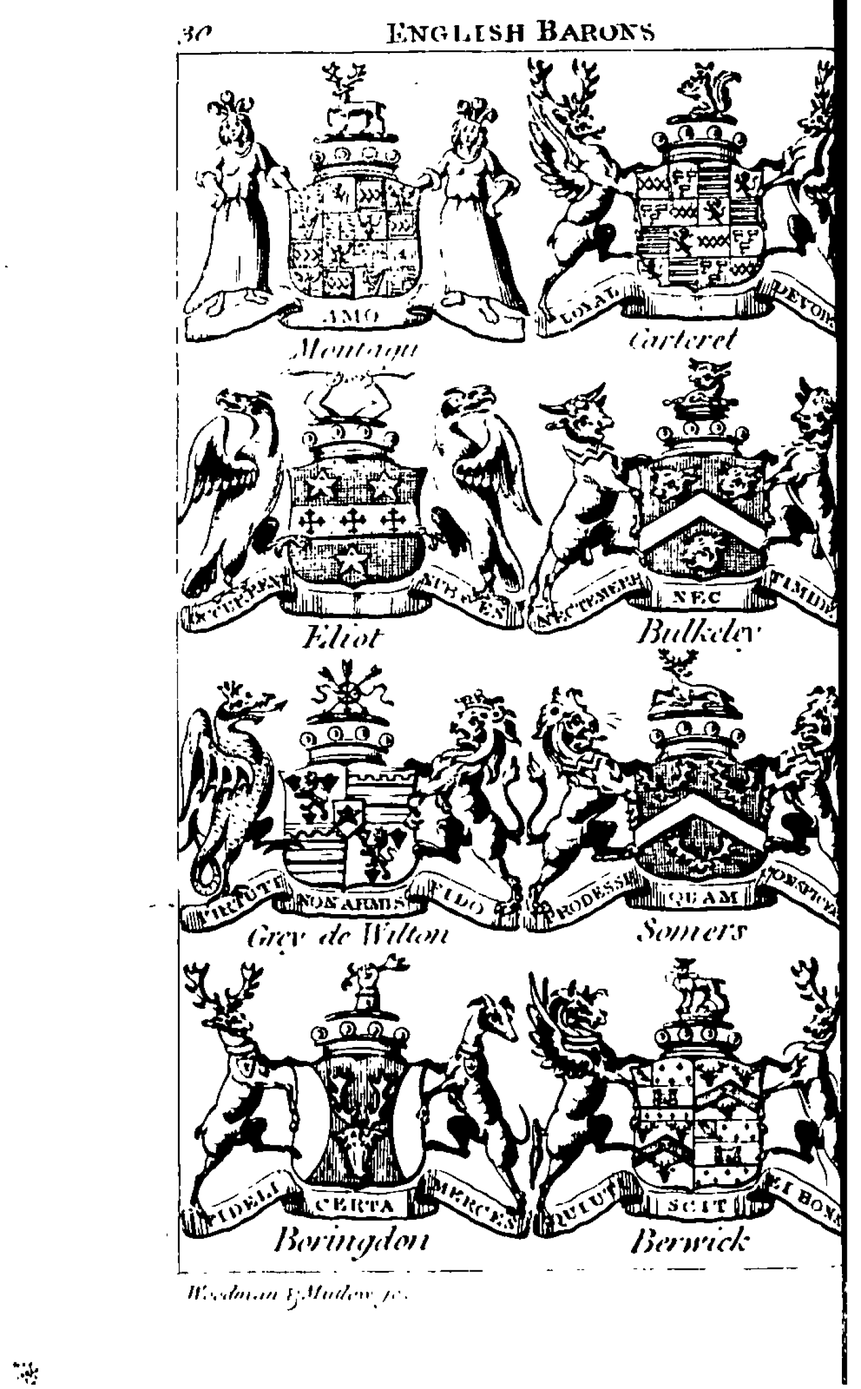coat_of_arms: (183, 953, 539, 1272), (183, 365, 533, 667), (517, 47, 847, 361), (188, 66, 529, 366), (183, 666, 524, 961), (525, 950, 838, 1256), (531, 361, 859, 650), (515, 656, 841, 945)
